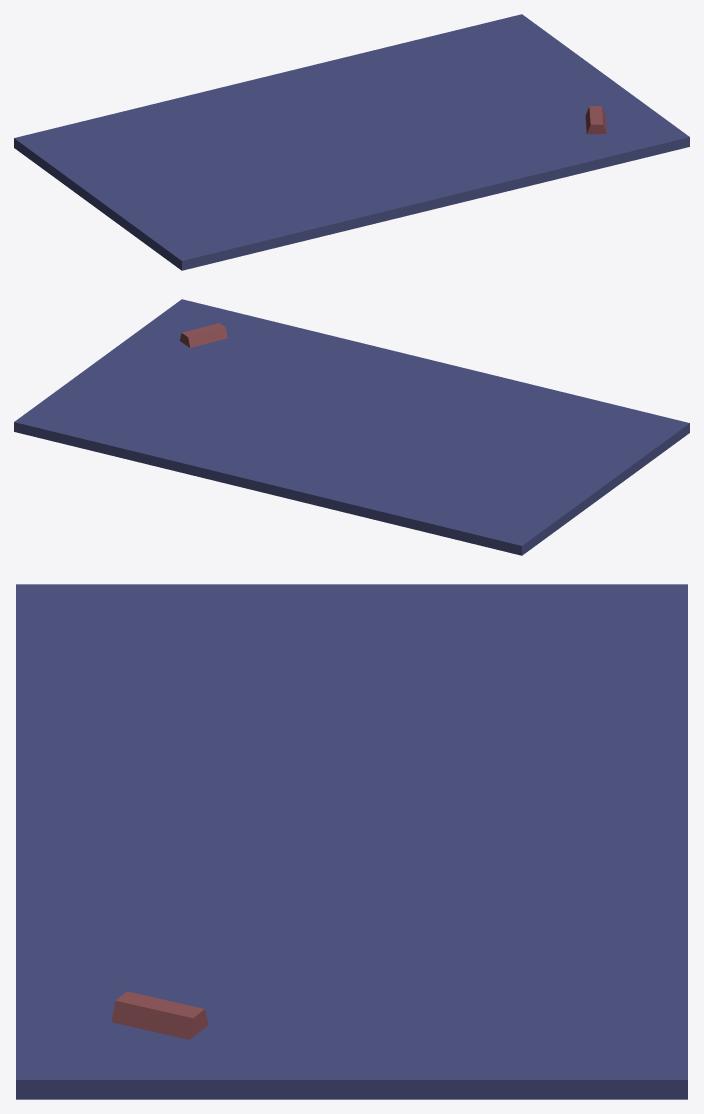
Rendered from Whiteboard.fbx.
3 views of the same model, one above another, from view 1: azimuth 30°, elevation 25°; view 2: azimuth 150°, elevation 25°; view 3: azimuth 270°, elevation 25° (orthographic). The views are drawn at different scales.
Visible parts, largest first — view 1: Whiteboard, Sponge; view 2: Whiteboard, Sponge; view 3: Whiteboard, Sponge.
Boxes of the visible parts, x1=… form: Whiteboard: x1=14, y1=14, x2=689, y2=270; Sponge: x1=585, y1=106, x2=606, y2=134; Whiteboard: x1=14, y1=299, x2=689, y2=555; Sponge: x1=179, y1=323, x2=227, y2=347; Whiteboard: x1=16, y1=584, x2=687, y2=1099; Sponge: x1=111, y1=991, x2=208, y2=1039.
Bounding box in the file's own units: 16.42 × 0.5941 × 9.4.
